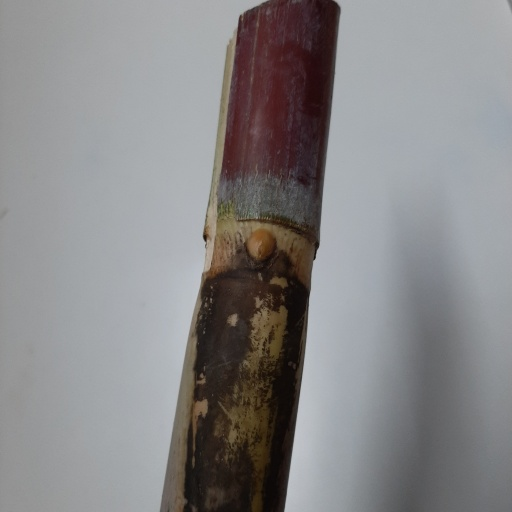Bud: (245, 228, 276, 266)
